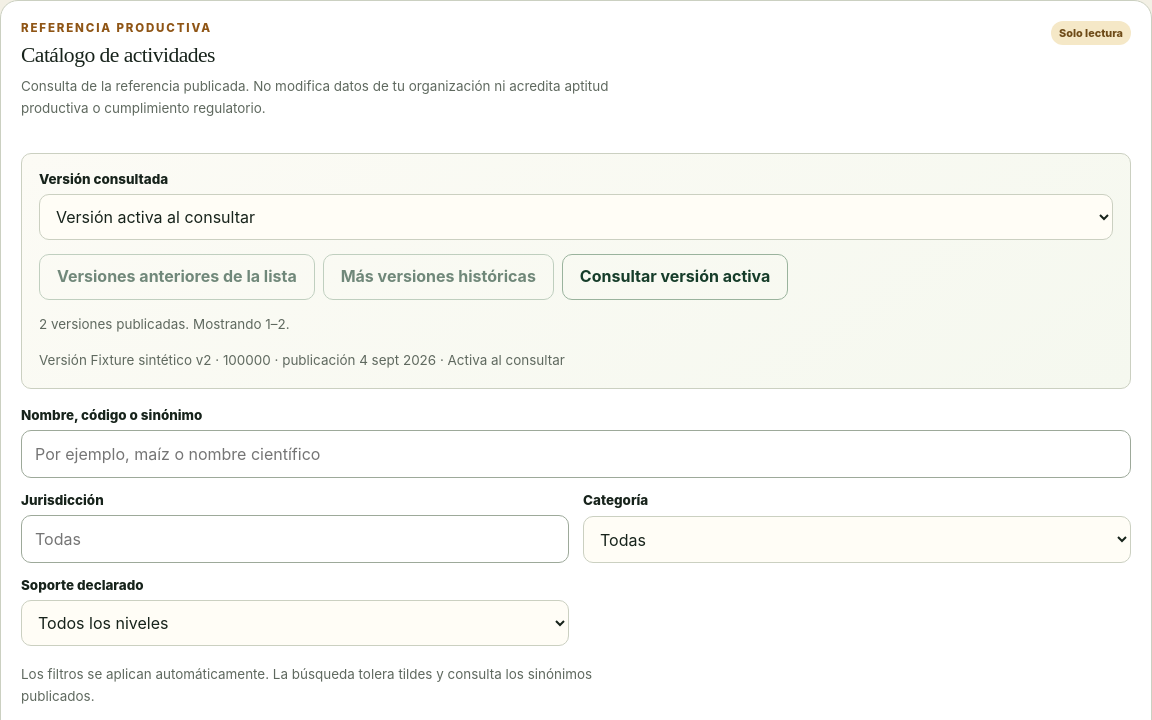
Test: CatalogReader › announces an observed active version change without claiming realtime freshness
Type "maiz" into the search field at (576, 454), box [21,430,1131,478]
Wait 300 ms
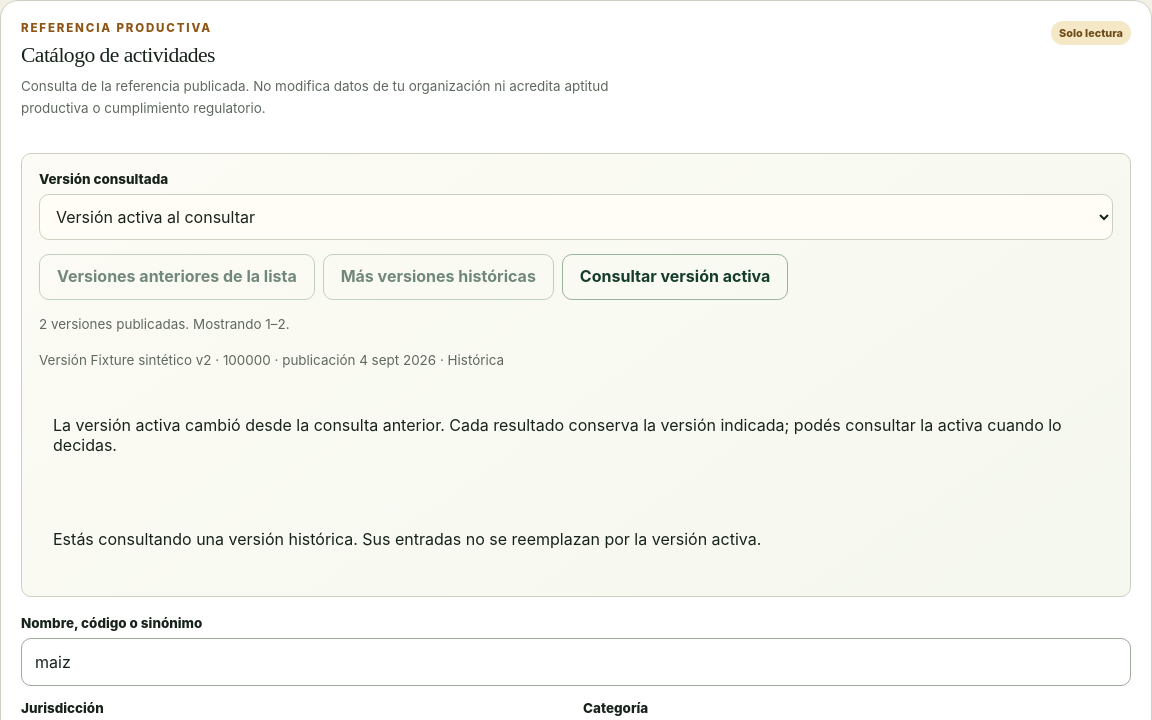
Check: the text "La versión activa cambió desde la consulta anterior" is shown, box [53,415,1062,455]
